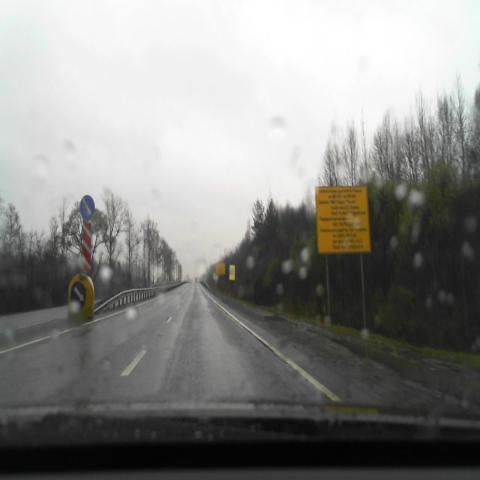4_2_1: (70, 282, 86, 310), (80, 195, 94, 220)
